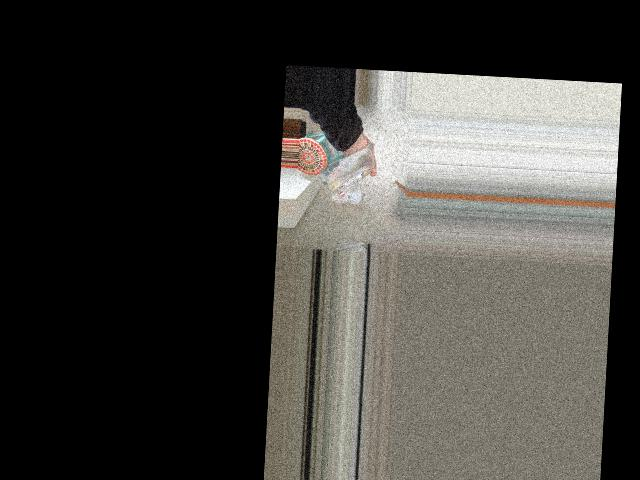cheese: (302, 134, 382, 211)
